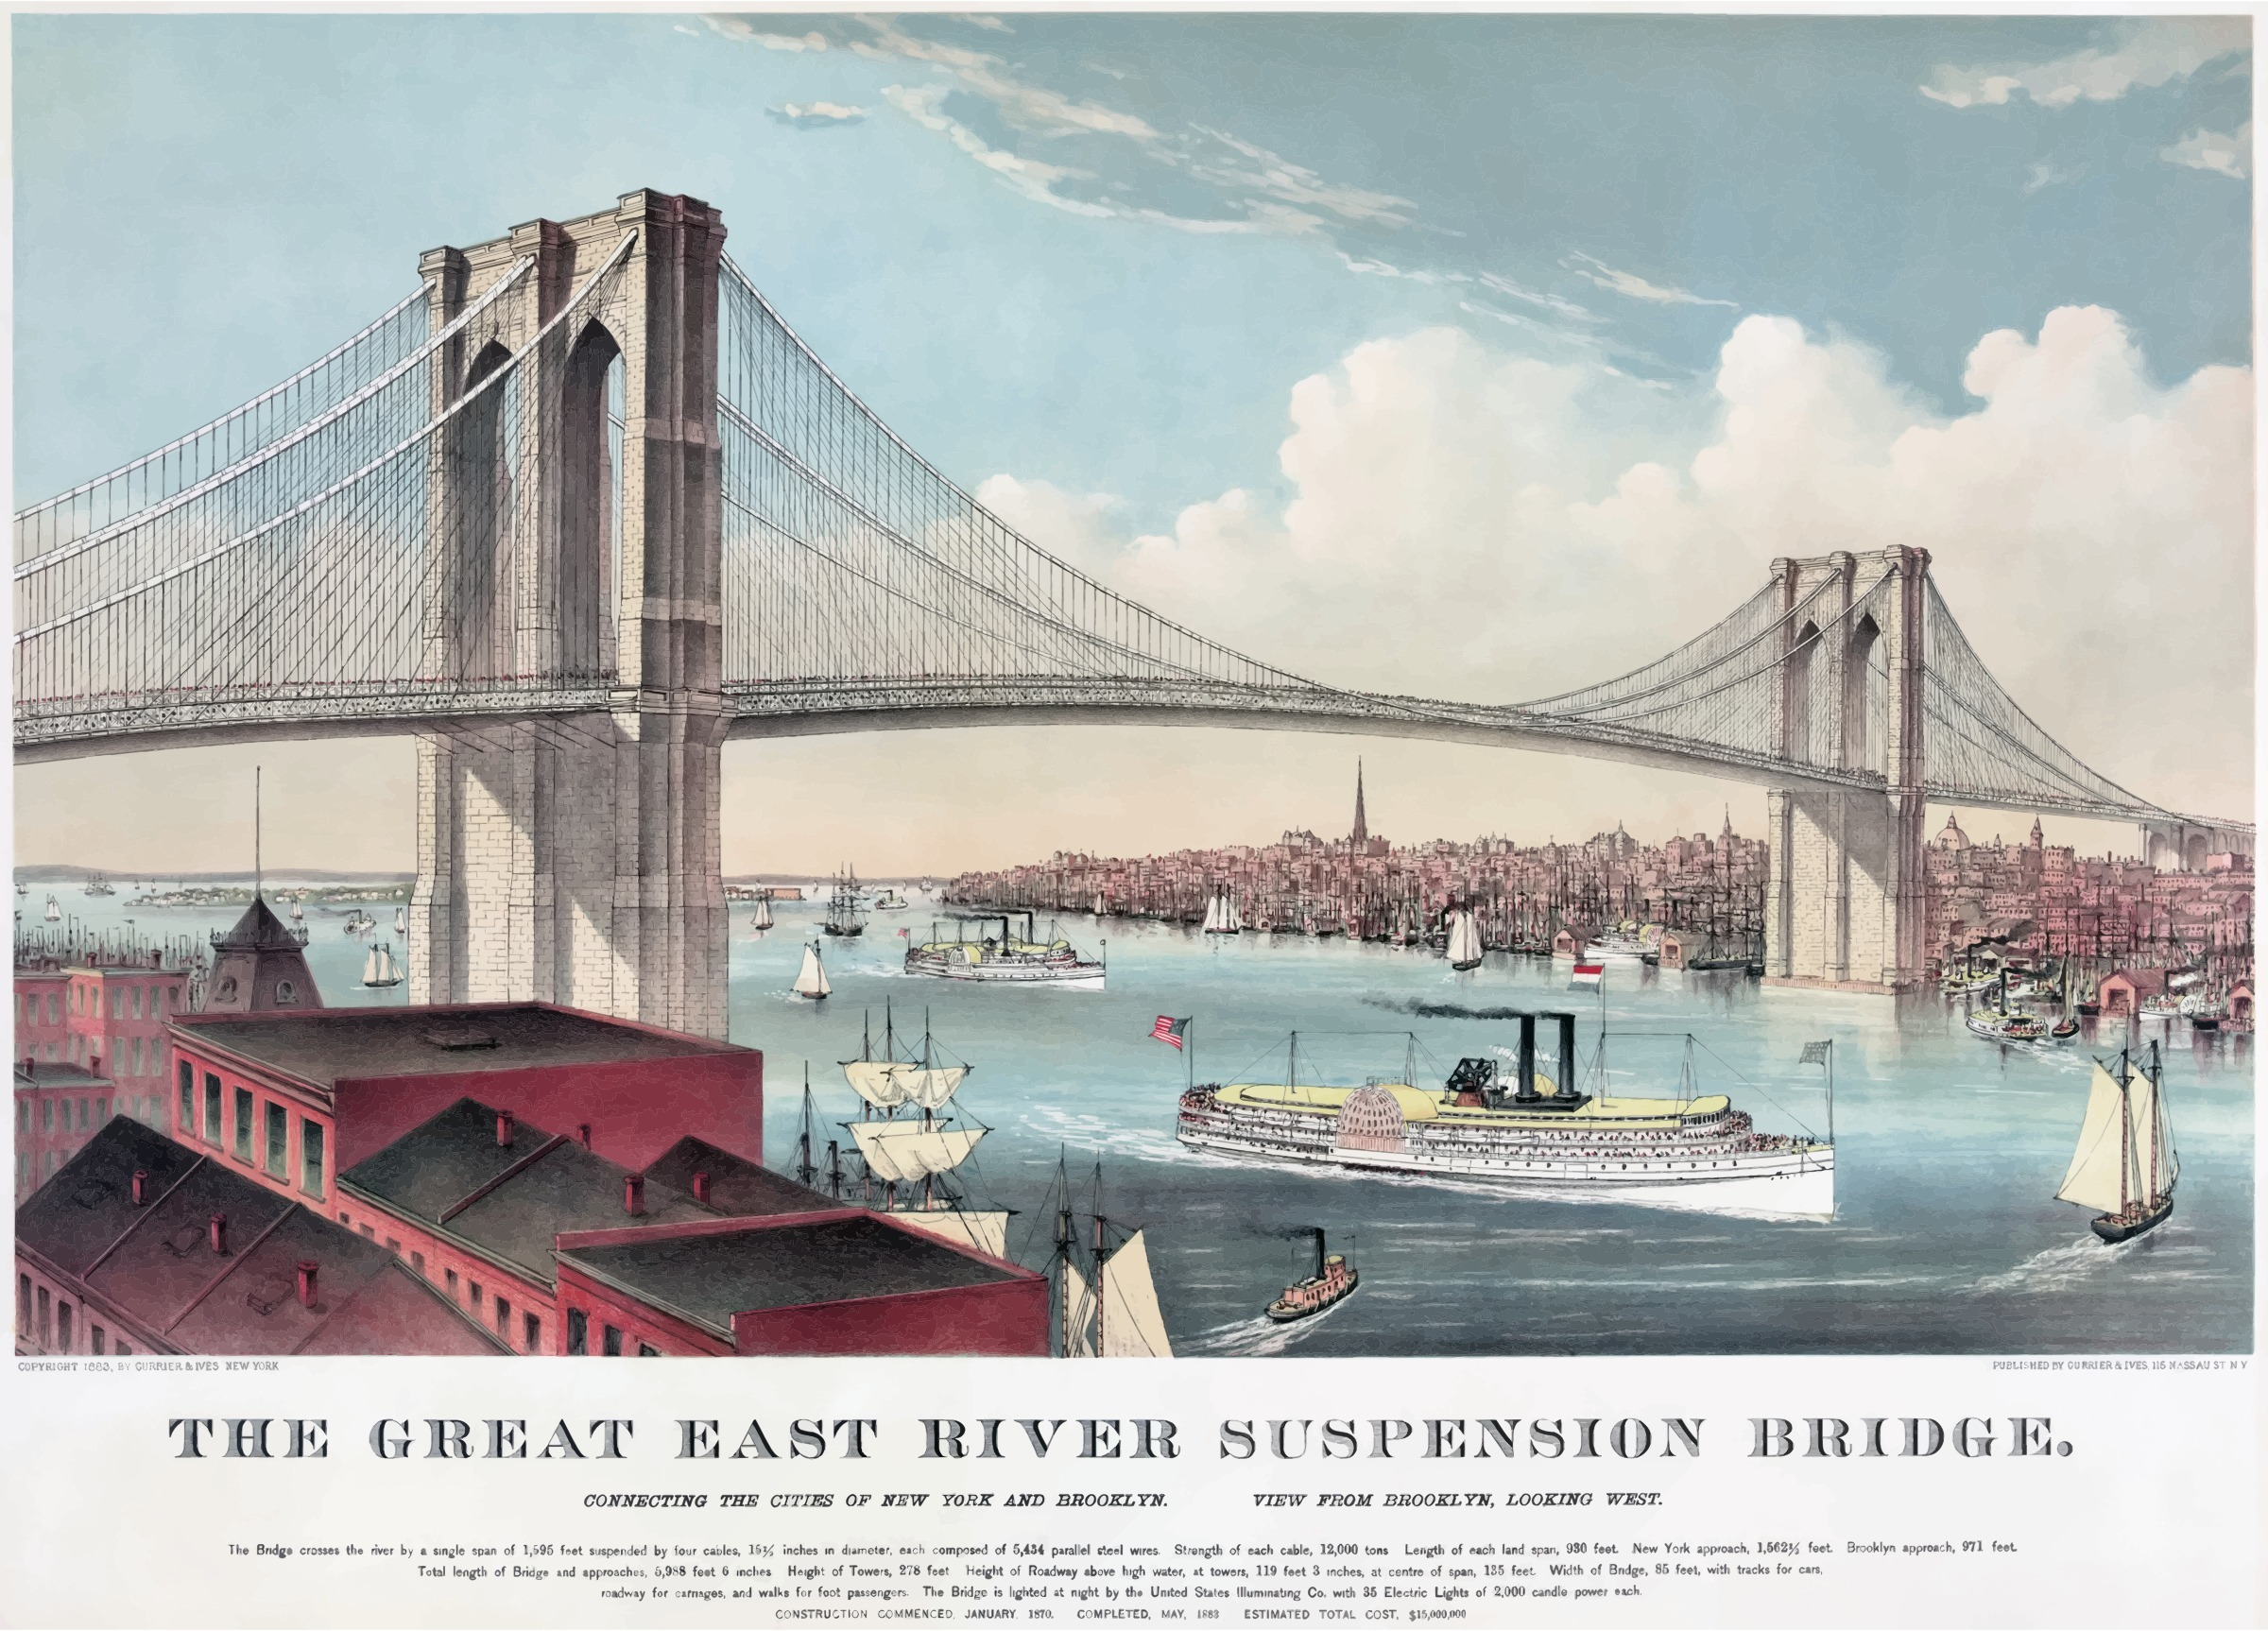boat: (1150, 992, 1859, 1254), (2027, 1032, 2196, 1254), (886, 900, 1130, 1004)
